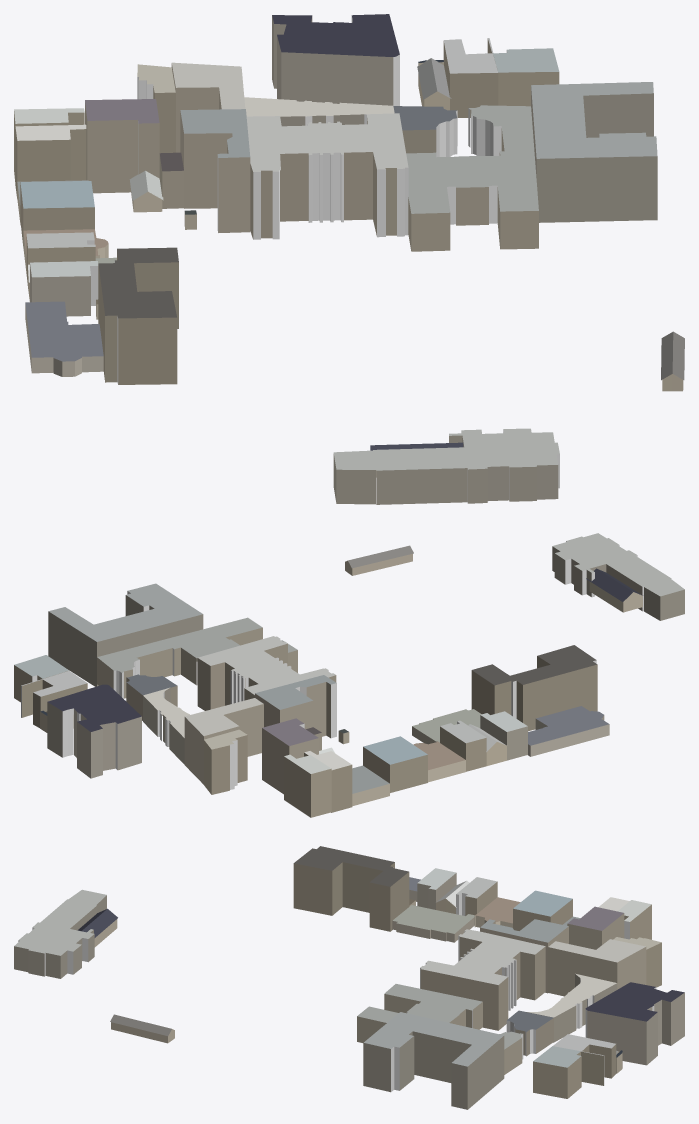
The picture shows the model from 3 angles, top to bottom: view 1: azimuth 30°, elevation 25°; view 2: azimuth 150°, elevation 25°; view 3: azimuth 270°, elevation 25°; orthographic projection. The views are drawn at different scales.
Visible parts, largest first — view 1: tuile; view 2: tuile; view 3: tuile.
Part boxes in pixels (x1,y1,x2,y2): tuile: [14, 14, 684, 504]; tuile: [14, 533, 684, 817]; tuile: [14, 846, 684, 1109].
Bounding box in the file's own units: 235 × 25.79 × 288.
